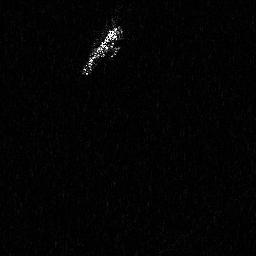ship: (78, 17, 125, 77)
